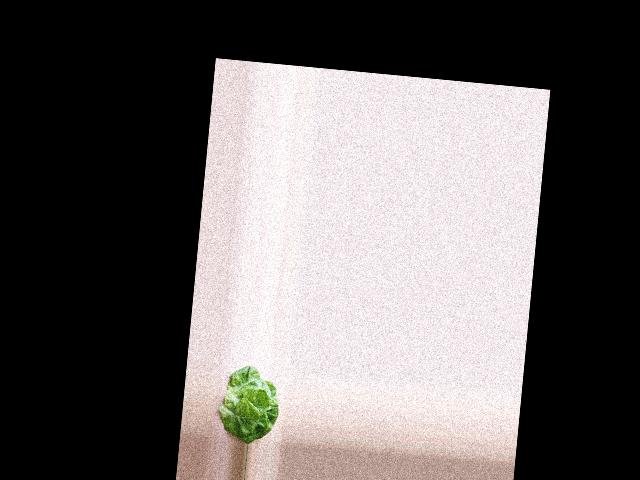lettuce: (218, 365, 282, 444)
